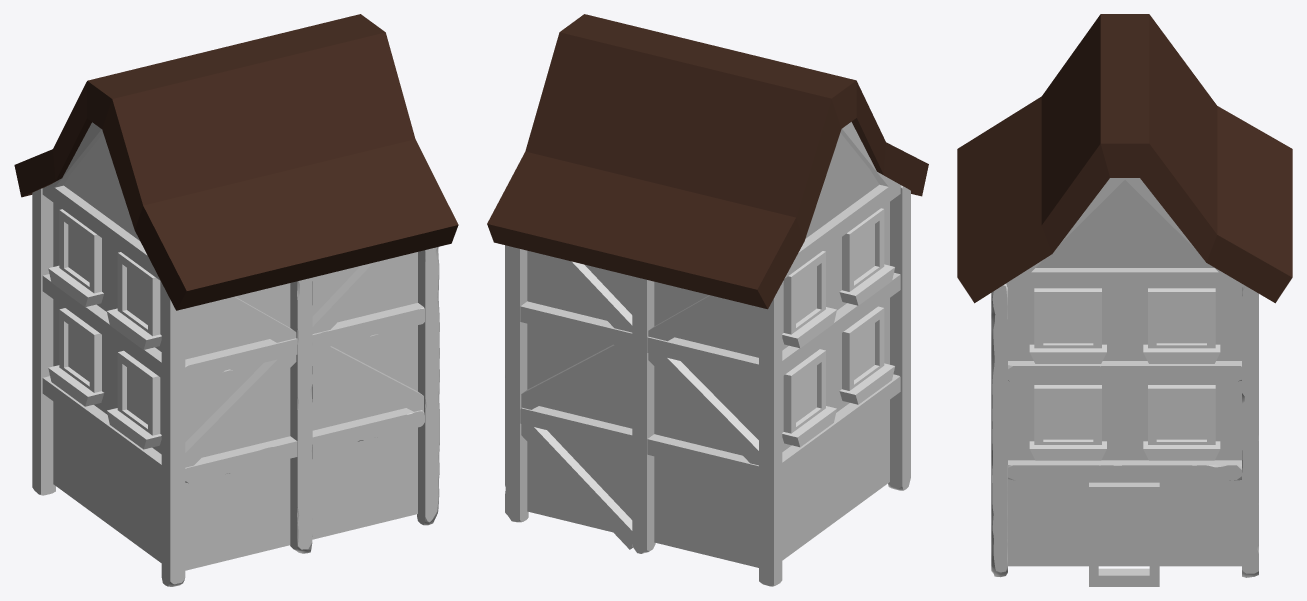
Rendered from House1.fbx.
The picture shows the model from 3 angles, left to right: view 1: azimuth 30°, elevation 25°; view 2: azimuth 150°, elevation 25°; view 3: azimuth 270°, elevation 25°; orthographic projection. The views are drawn at different scales.
Visible parts, largest first — view 1: Cube, Cube.015, Cube.013, Cube.012; view 2: Cube, Cube.015, Cube.013, Cube.012; view 3: Cube, Cube.015, Cube.013, Cube.012.
Part boxes in pixels (x1,y1,x2,y2): Cube: (14, 14, 458, 570); Cube.015: (32, 122, 439, 586); Cube.013: (48, 209, 161, 449); Cube.012: (68, 225, 147, 424); Cube: (487, 14, 928, 567); Cube.015: (505, 122, 910, 586); Cube.013: (782, 208, 894, 447); Cube.012: (796, 224, 874, 422); Cube: (957, 14, 1292, 566); Cube.015: (991, 178, 1258, 586); Cube.013: (1029, 288, 1220, 460); Cube.012: (1043, 300, 1206, 439).
Bounding box in the file's own units: 1603 × 2476 × 1687.
